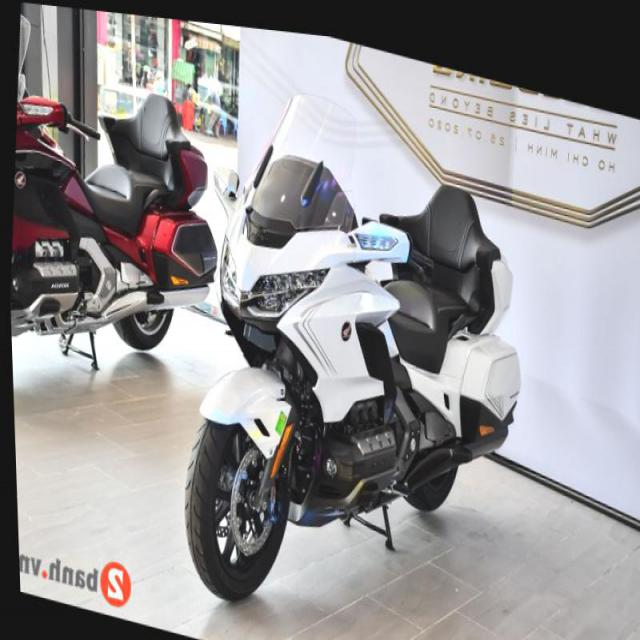Gold Wing: (162, 54, 546, 639)
